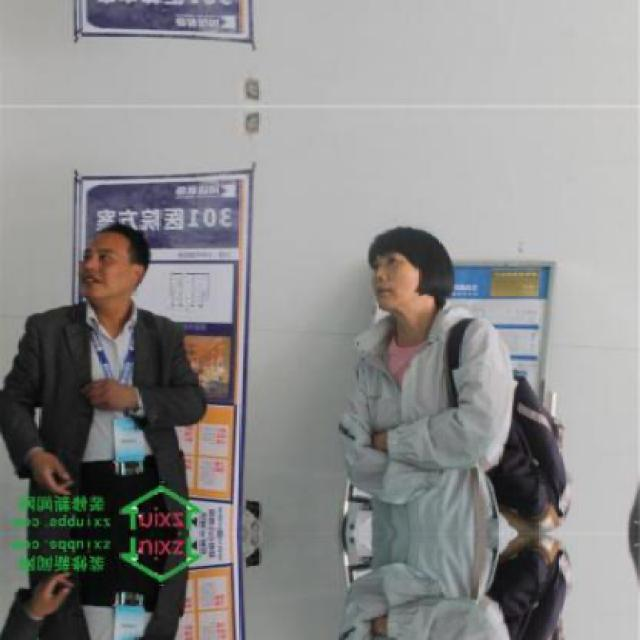sin casco: (328, 212, 468, 312), (64, 226, 159, 290)
